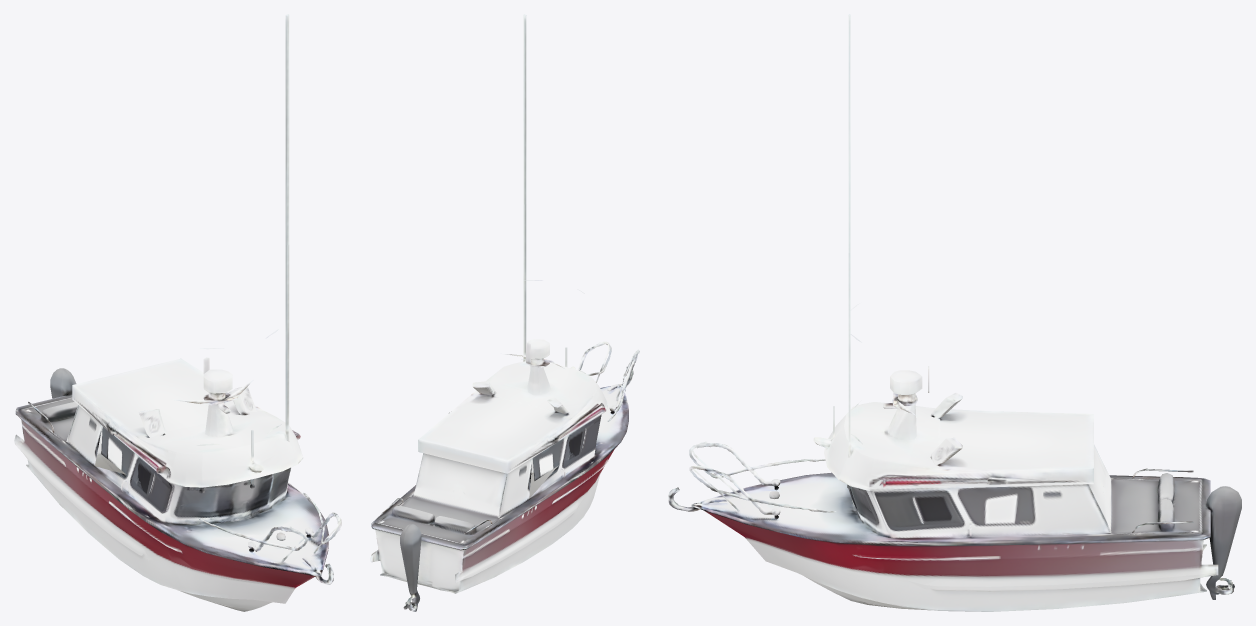
Rendered from base_basic_shaded.fbx.
The picture shows the model from 3 angles, left to right: view 1: azimuth 30°, elevation 25°; view 2: azimuth 150°, elevation 25°; view 3: azimuth 270°, elevation 25°; orthographic projection. The views are drawn at different scales.
Parts seen in each view (by area): view 1: model; view 2: model; view 3: model.
Boxes of the visible parts, x1,y1,x2,y2 form: model: (14, 14, 341, 611); model: (370, 14, 639, 611); model: (668, 14, 1241, 611).
Size of the model in its own units: 48.41 by 190 by 161.
